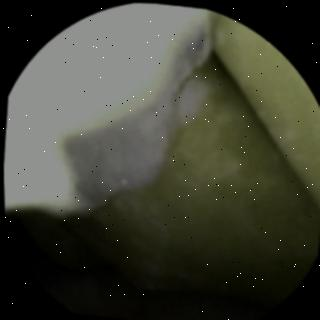stone: (15, 14, 320, 304)
